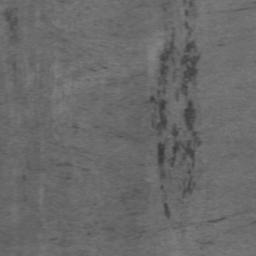Iron scale compression: (177, 13, 201, 99), (158, 29, 176, 95), (173, 128, 197, 165), (147, 96, 167, 135), (184, 102, 198, 142), (156, 141, 165, 170), (180, 179, 194, 197), (162, 202, 169, 217)
